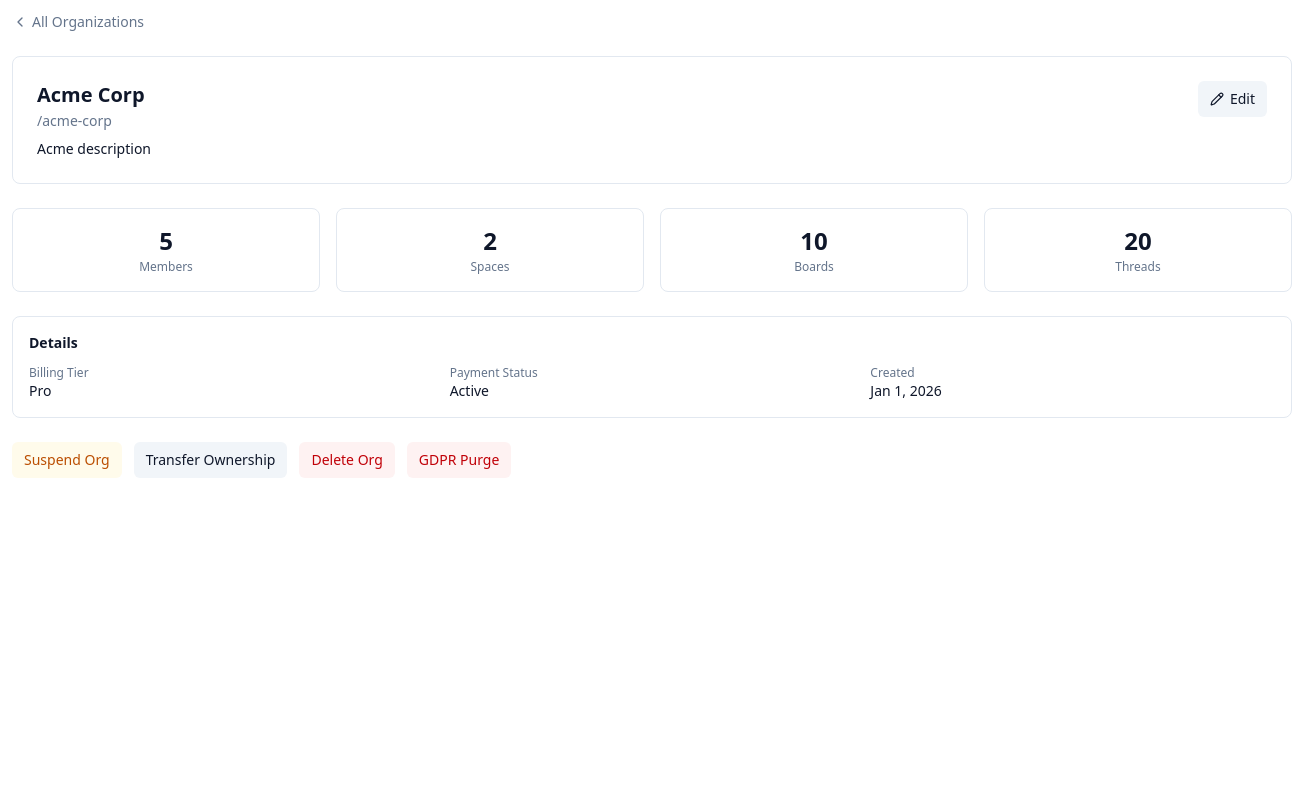
it: OrgDetailAdmin › disables save when name is empty
Click the button with test id "edit-org-btn": (1232, 99) [1198,81,1267,117]
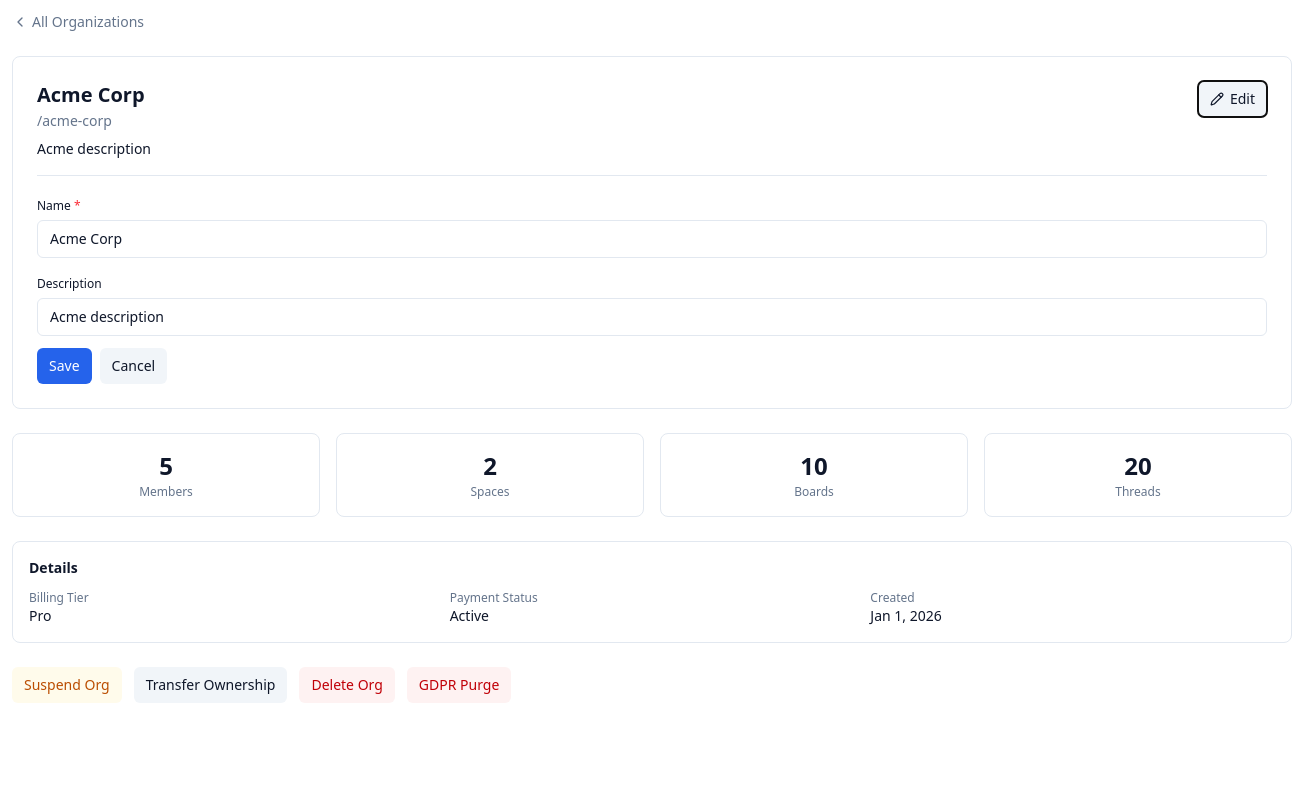
Clear the field with test id "edit-org-name-input": (652, 239) [37,220,1267,258]
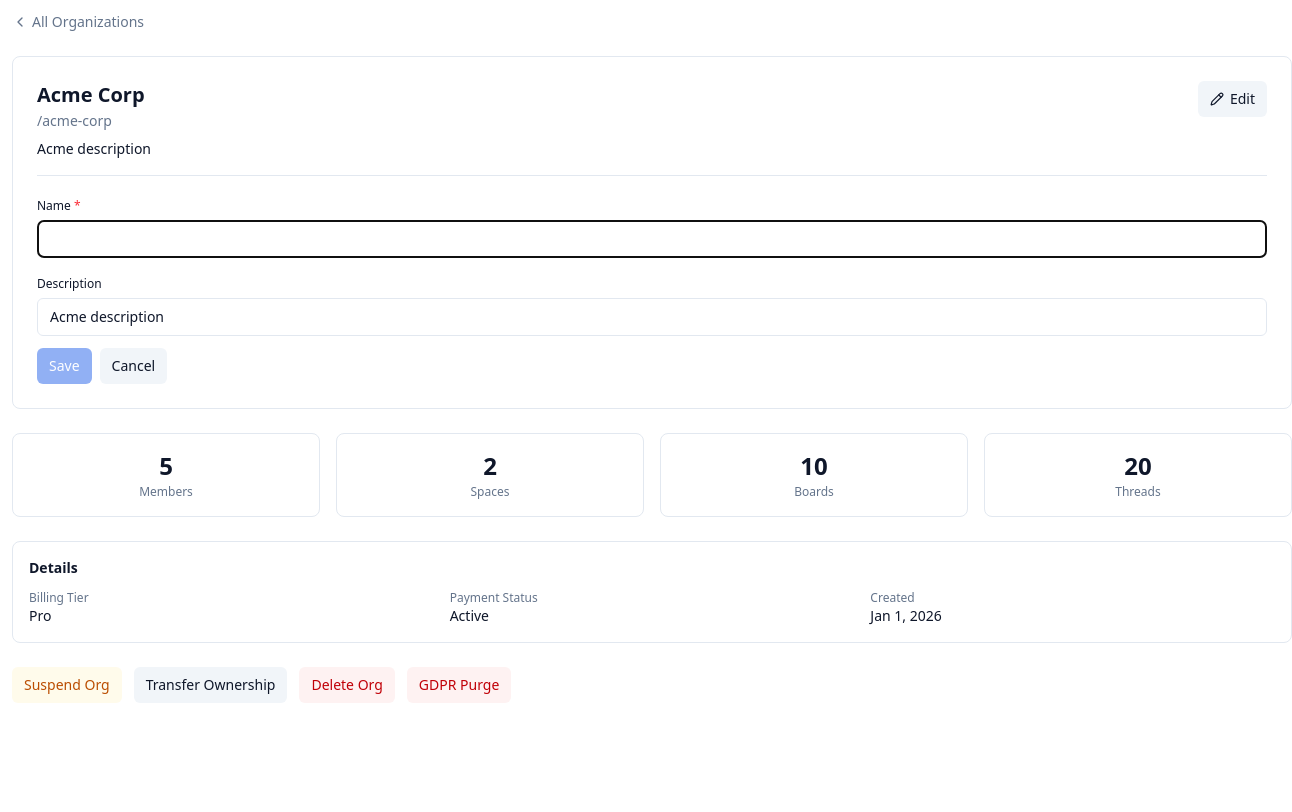
expect the button with test id "edit-org-save" is disabled: met, box [37,348,92,384]
